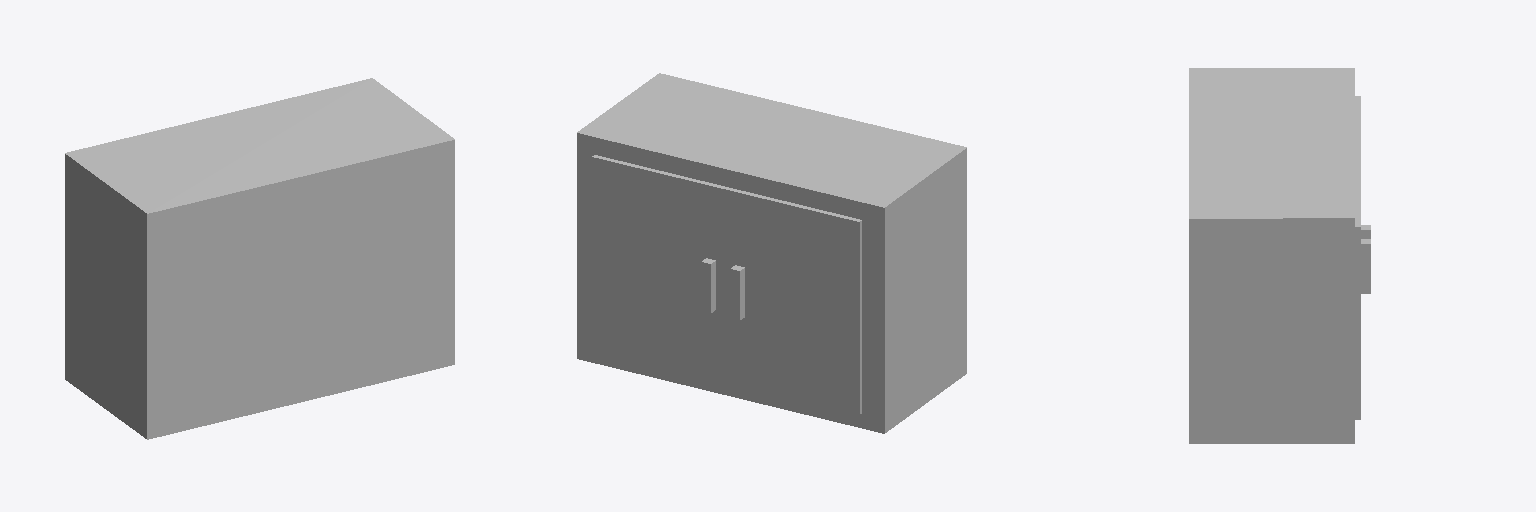
The model's file is Cajoneras.obj.
3 views of the same model, side by side, from view 1: azimuth 30°, elevation 25°; view 2: azimuth 150°, elevation 25°; view 3: azimuth 270°, elevation 25° (orthographic).
Visible parts, largest first — view 1: Cube.208; view 2: Cube.208, Cube.209, Cube.207; view 3: Cube.208, Cube.207, Cube.209.
Boxes of the visible parts, box(x1,y1,x2,y2) form: Cube.208: box(65, 78, 454, 439); Cube.208: box(577, 73, 966, 433); Cube.209: box(725, 188, 861, 414); Cube.207: box(592, 155, 728, 381); Cube.208: box(1189, 68, 1354, 443); Cube.207: box(1355, 162, 1370, 419); Cube.209: box(1355, 96, 1370, 238).
Size of the model in its own units: 2.13 by 1.49 by 1.09.